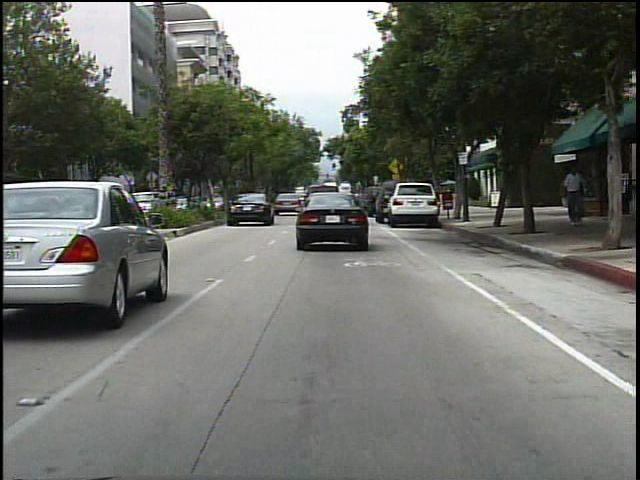person: (561, 163, 589, 230)
